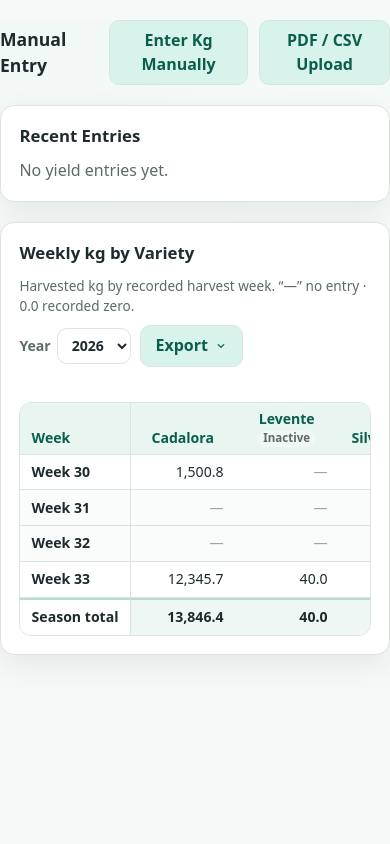
Test: Weekly kg by Variety in the Manual Entry tab › sits below Recent Entries and reloads after an entry is saved
expect the element "Weekly kg by Variety" is shown: met, box [0,222,389,655]
expect the table is shown: met, box [20,403,371,635]
Click the button "Enter Kg Manually". click: (179, 52)
box: [109,20,248,85]
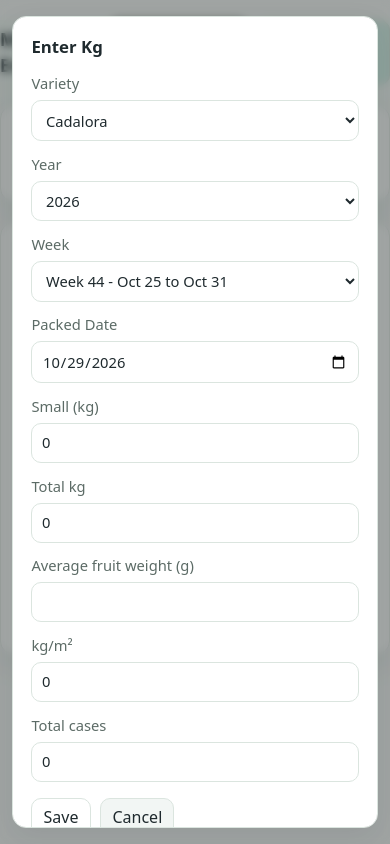
Replace the text in the number field labelled "Small (kg)" with "5". click: (195, 443)
box: [31,423,359,463]
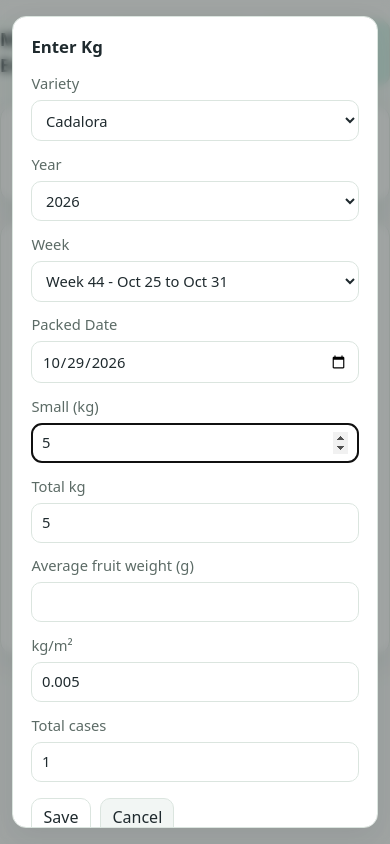
Click the button "Save". click: (61, 817)
box: [31,798,91,837]
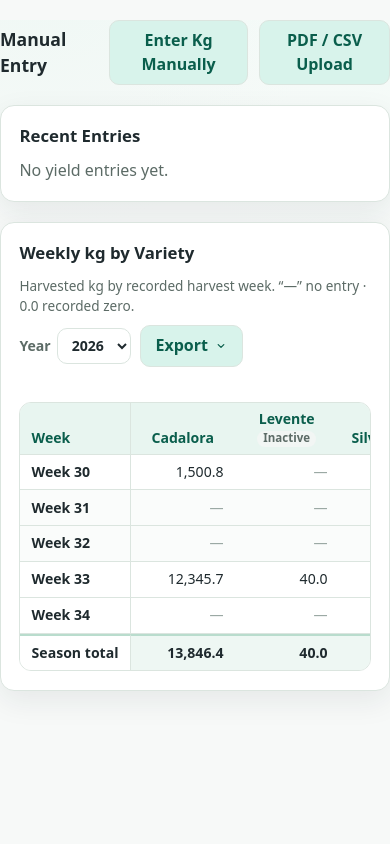
expect the column heading "Week 34" is shown: met, box [20,598,131,634]
